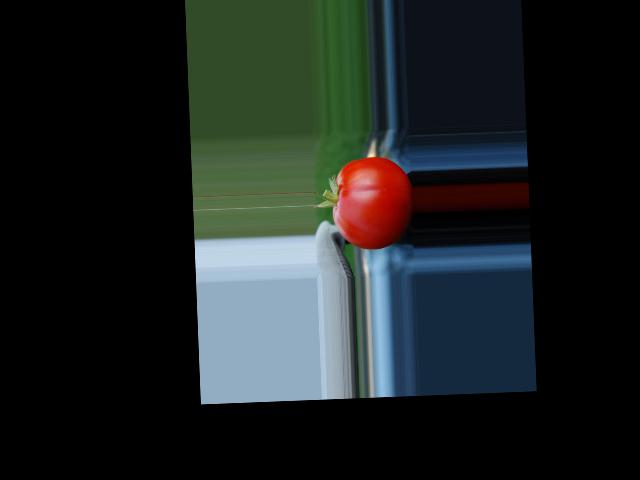tomato: (330, 155, 415, 250)
